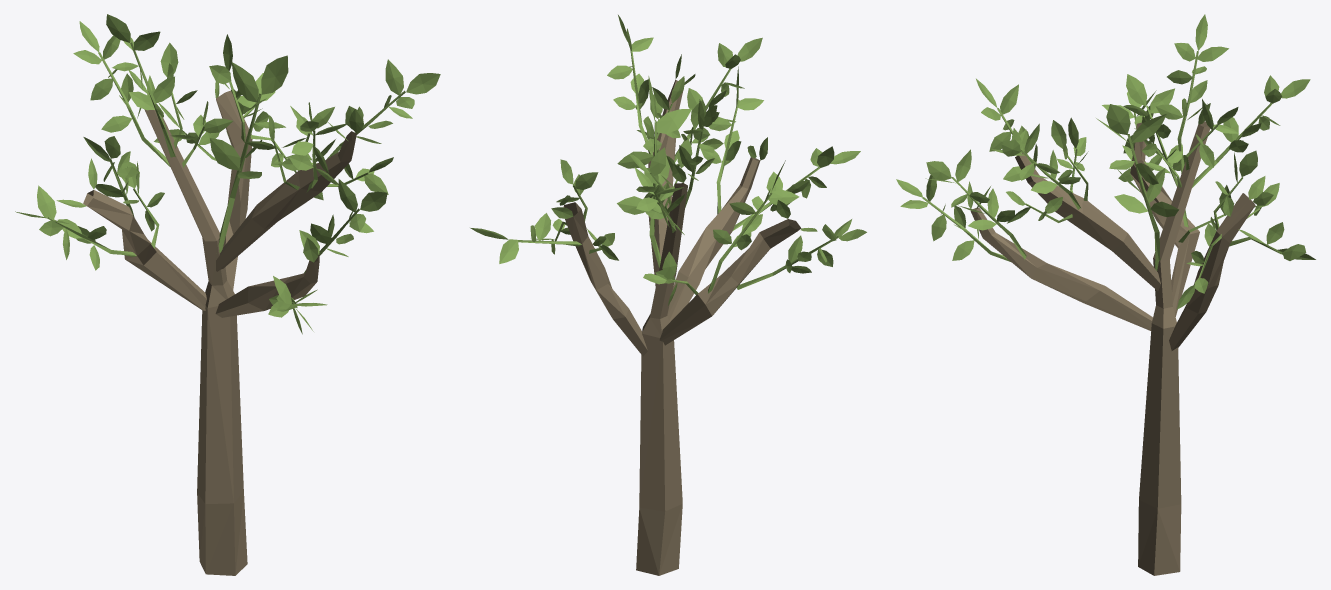
Rendered from Apple_3_4.fbx.
The picture shows the model from 3 angles, left to right: view 1: azimuth 30°, elevation 25°; view 2: azimuth 150°, elevation 25°; view 3: azimuth 270°, elevation 25°; orthographic projection. The views are drawn at different scales.
Visible parts, largest first — view 1: Apple_3_4; view 2: Apple_3_4; view 3: Apple_3_4.
Part boxes in pixels (x1=…): Apple_3_4: x1=15, y1=14, x2=440, y2=575; Apple_3_4: x1=470, y1=15, x2=866, y2=575; Apple_3_4: x1=896, y1=14, x2=1315, y2=575.
Size of the model in its own units: 159 by 239 by 178.
